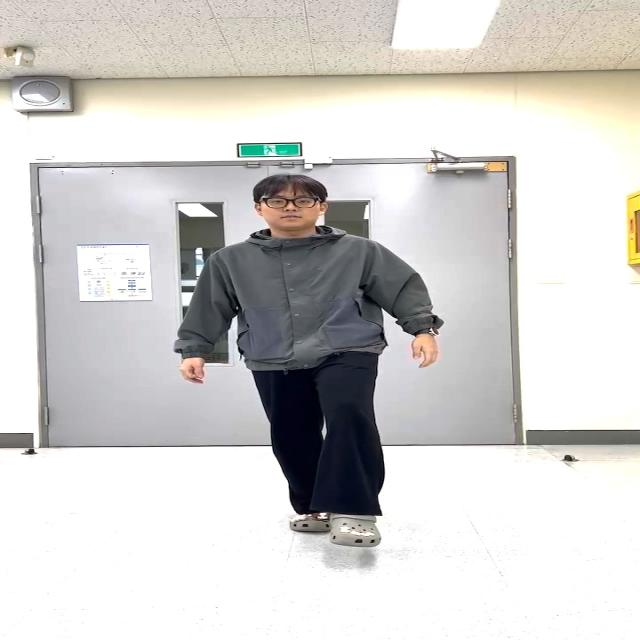leg: (309, 347, 394, 551)
